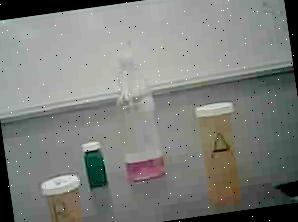Bottle A: (193, 100, 249, 211)
Bottle B: (36, 170, 89, 222)
Bottle C: (79, 136, 117, 192)
hazard: (106, 28, 173, 187)
